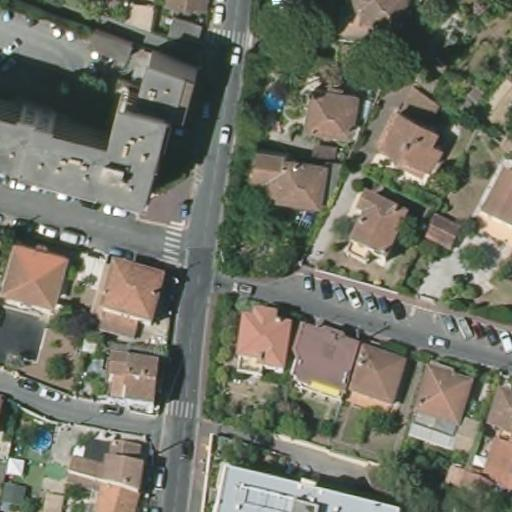pool: (25, 422, 53, 452), (260, 85, 287, 114)
